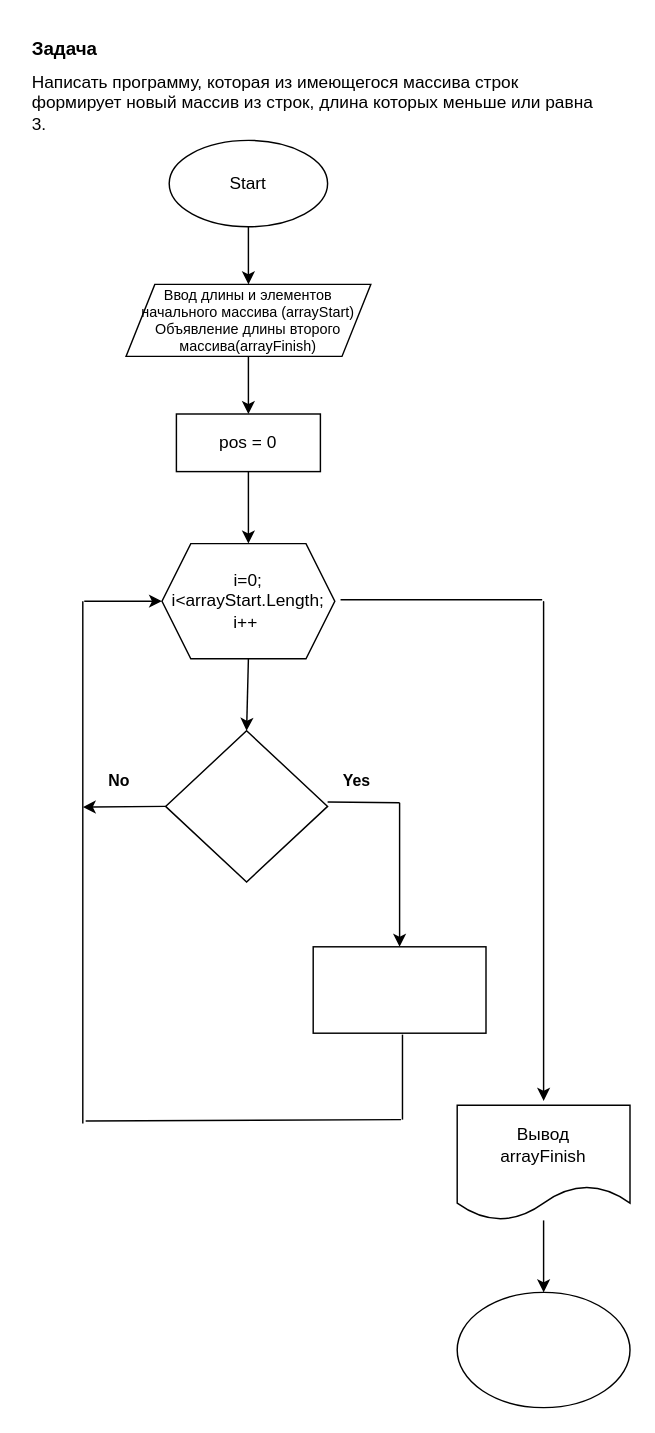
Image size: 655x1433. Some labels were removed from this diagram. The centre of each missing label's shape, as x and y in pixels:
arrayFinish[pos] = arrayStart[i] pos++: the point at 399,989
Finish: the point at 543,1349
if arrayStart[i].Length <= 3: the point at 246,805
